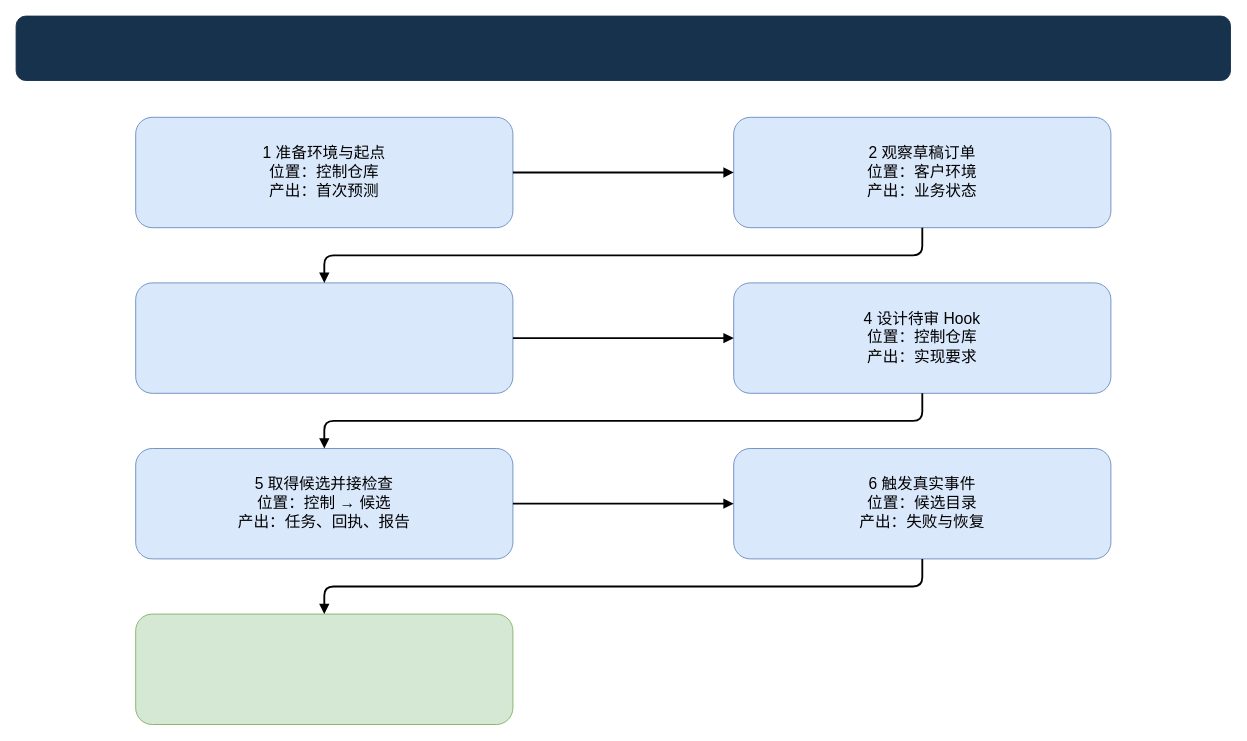
Some shapes in this 1247 by 741 pixel diagram are drawn without their labels. Each missing label, with the centre of its shape:
3 验证适配器输入 位置：控制仓库 产出：六类结果: (324,337)
7 复验并迁移 位置：复验者 + 你 产出：最终结论: (324,668)
L07 实践路线：按顺序操作，每一步都留下实际结果: (622,47)
